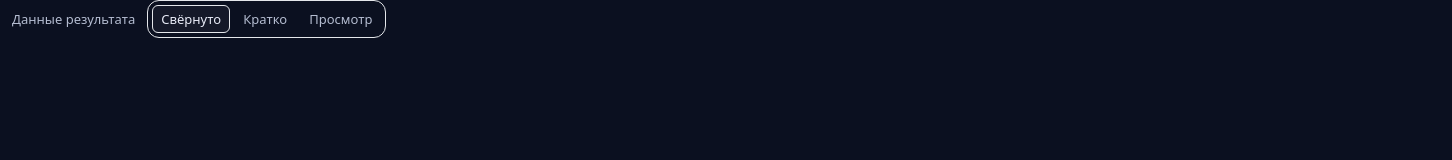
Test case: periodic run result view › switches between collapsed, brief and complete views without offering copy
Expected: the text "413" is not shown
Step 1. Click the button "Кратко" → (265, 19), box [234,5,296,33]
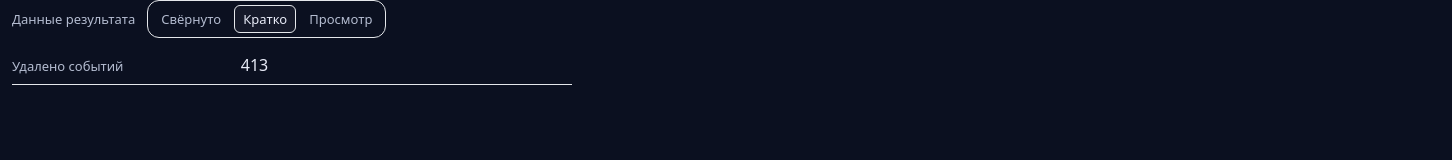
Expected: the text "Удалено событий" is shown, [12,57,124,75]
Expected: the text "413" is shown, [241,54,268,76]
Step 2. Click the button "Просмотр" → (341, 19), box [300,5,381,33]
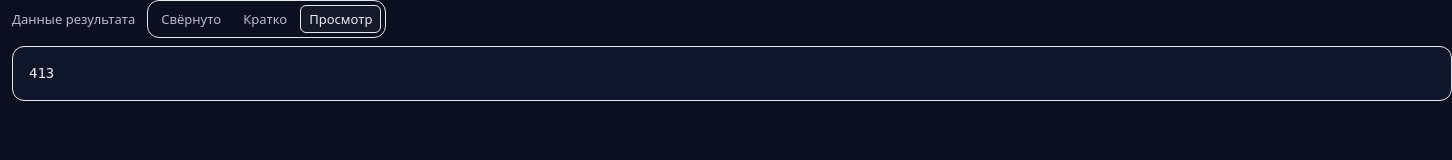
Expected: the button "Просмотр" is pressed, [300,5,381,33]
Step 3. Click the button "Свёрнуто" → (191, 19), box [152,5,230,33]
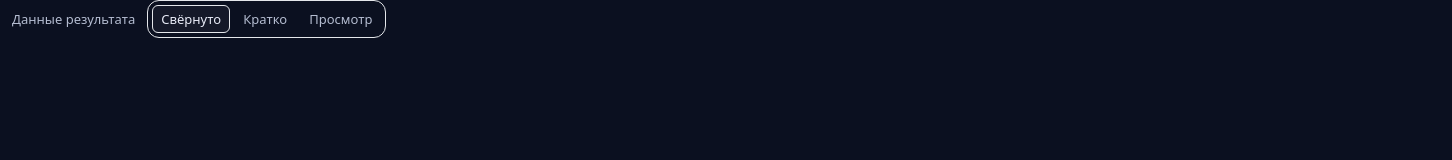
Expected: the text "413" is gone
